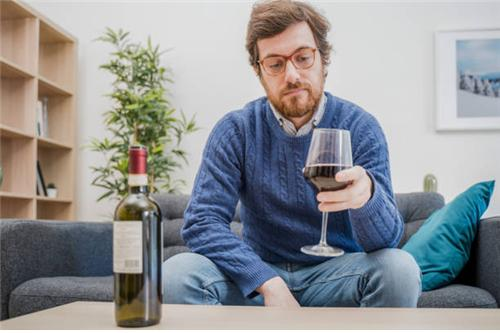alcohol: (110, 145, 163, 326), (304, 128, 356, 259)
